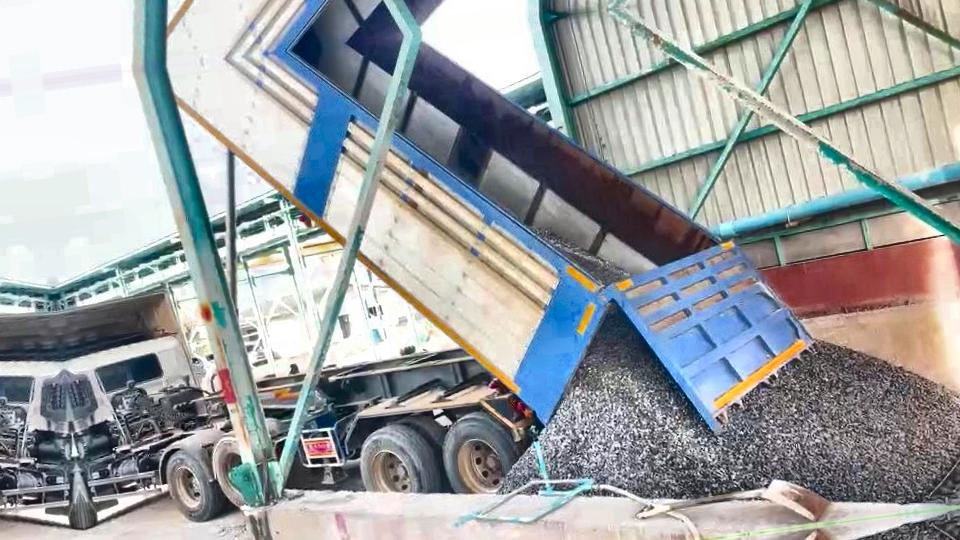gravel: (540, 309, 960, 502), (534, 227, 630, 284), (503, 448, 537, 491)
